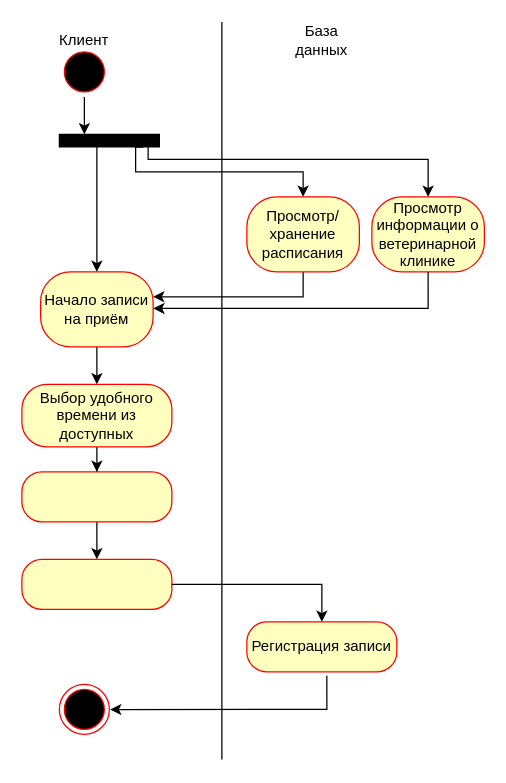
Image size: 506x783. Some labels were removed from this diagram. Each missing label, with the box of its shape:
Выбор ветеринара из доступных: (21, 471, 172, 522)
Подтверждение записи на приём: (21, 558, 172, 609)
